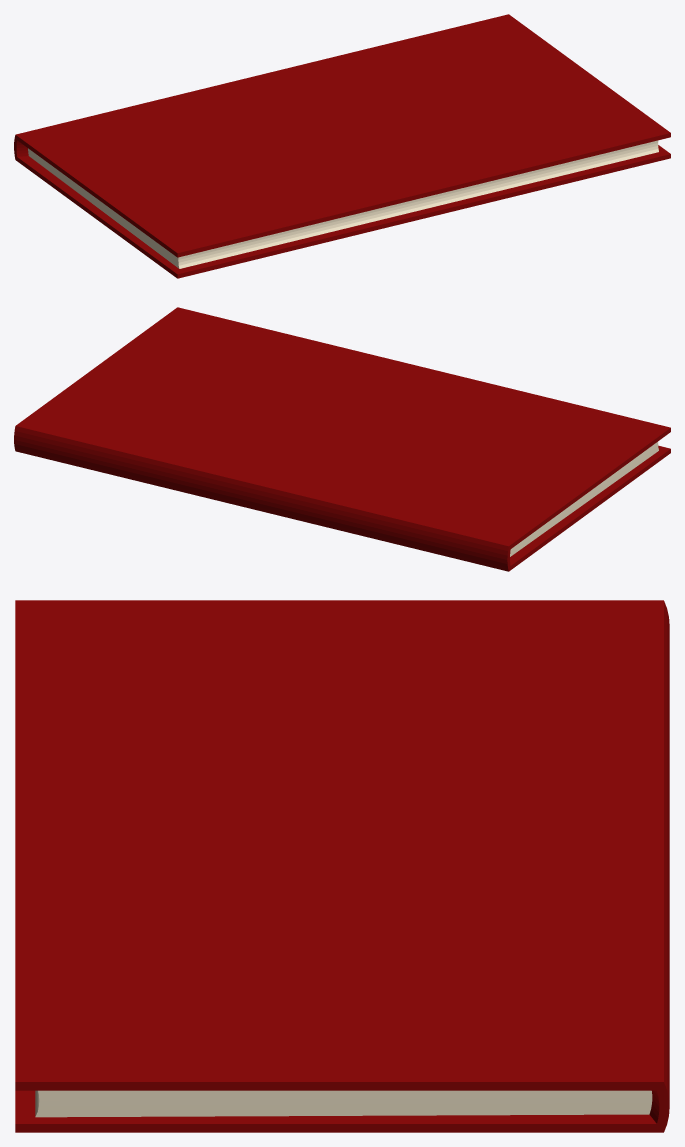
The model's file is Prop_Book_02.fbx.
3 views of the same model, one above another, from view 1: azimuth 30°, elevation 25°; view 2: azimuth 150°, elevation 25°; view 3: azimuth 270°, elevation 25° (orthographic). The views are drawn at different scales.
Visible parts, largest first — view 1: Prop_Book_02; view 2: Prop_Book_02; view 3: Prop_Book_02.
Part boxes in pixels (bbox=[...]): Prop_Book_02: bbox=[14, 14, 670, 278]; Prop_Book_02: bbox=[14, 307, 670, 571]; Prop_Book_02: bbox=[15, 600, 669, 1132].
Size of the model in its own units: 39.96 by 1.97 by 22.95.
